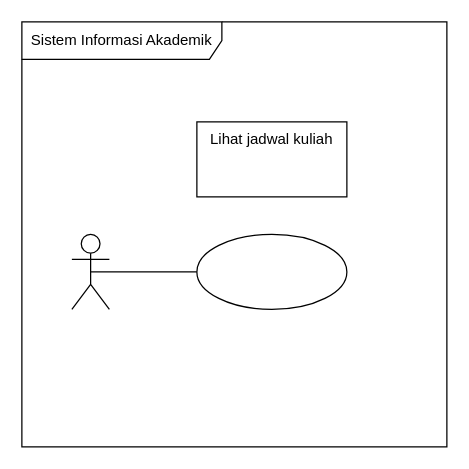
The diagram is 469 pixels wide and 469 high, and some of its shapes have lost their labels. Each missing label, with the centre of its shape:
Kelola jadwal kuliah: the point at 271,271
Mahasiswa: the point at 90,271
